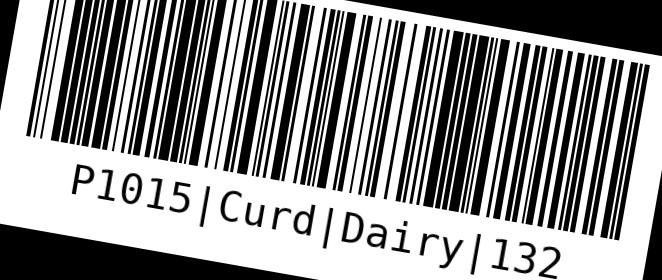milk: (9, 0, 660, 279)
